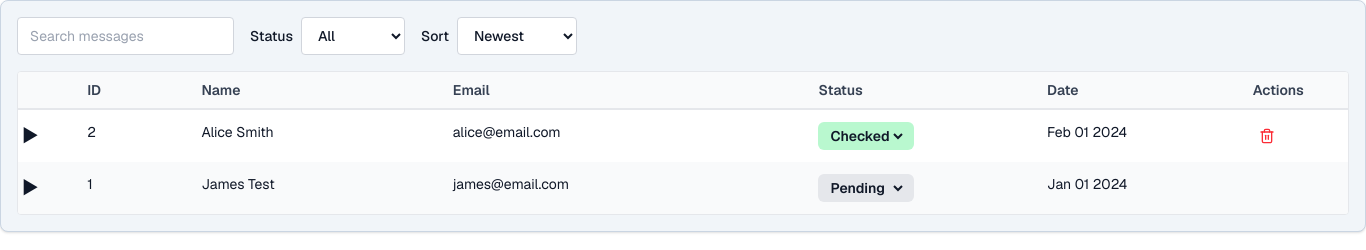
it: status filter works
The width and height of the screenshot is (1366, 250).
Expected: the text "James Test" is shown, [189,162,441,214]
Select "Pending" in the dropdown showing "All" at {"x": 353, "y": 36}, box [301,17,405,55]
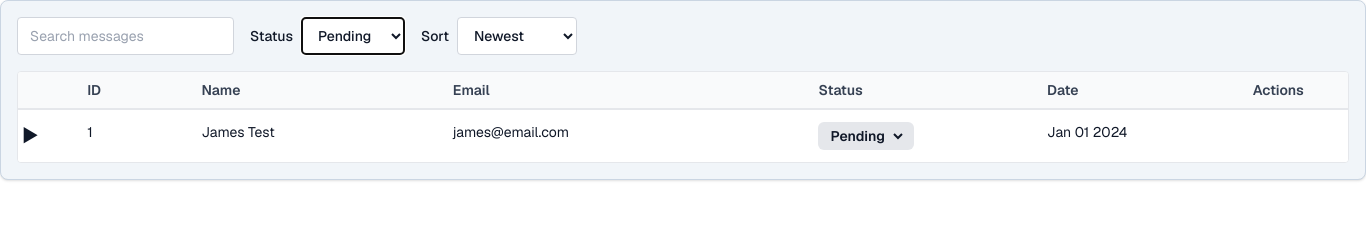
Expected: the text "James Test" is shown, [189,109,441,162]
Expected: the text "Alice Smith" is gone
